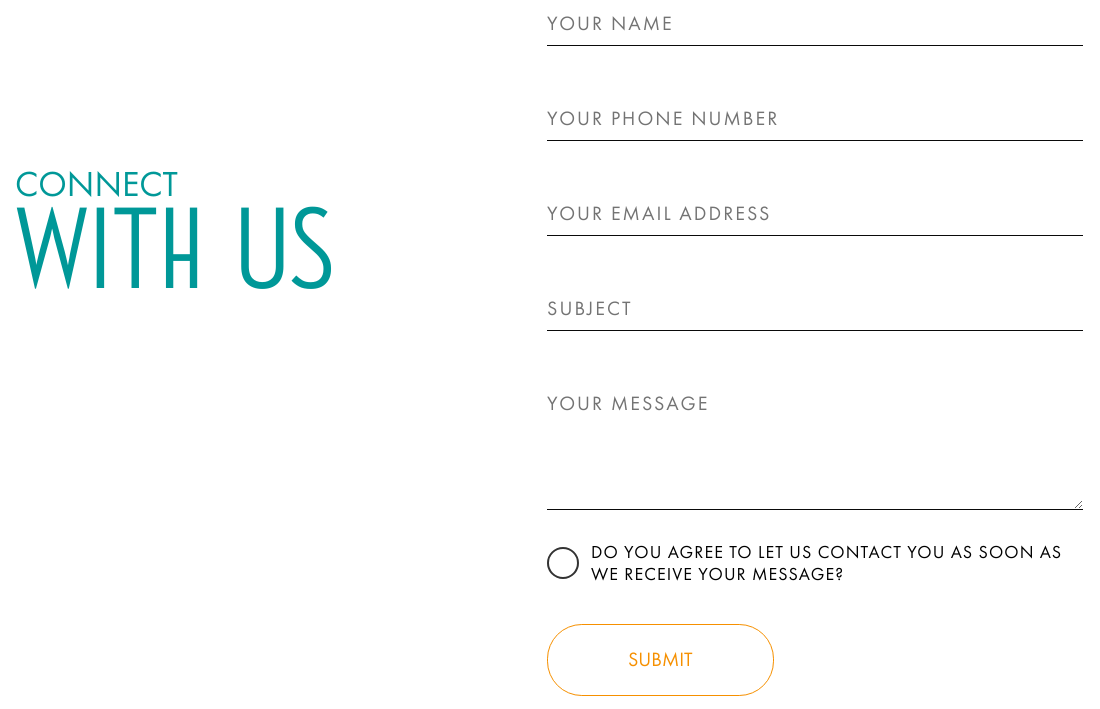
it: Contact Form Component › Form Validation › should validate phone number format
In the field with placeholder "Your Phone Number": (815,118) [547, 96, 1083, 141], type "123"
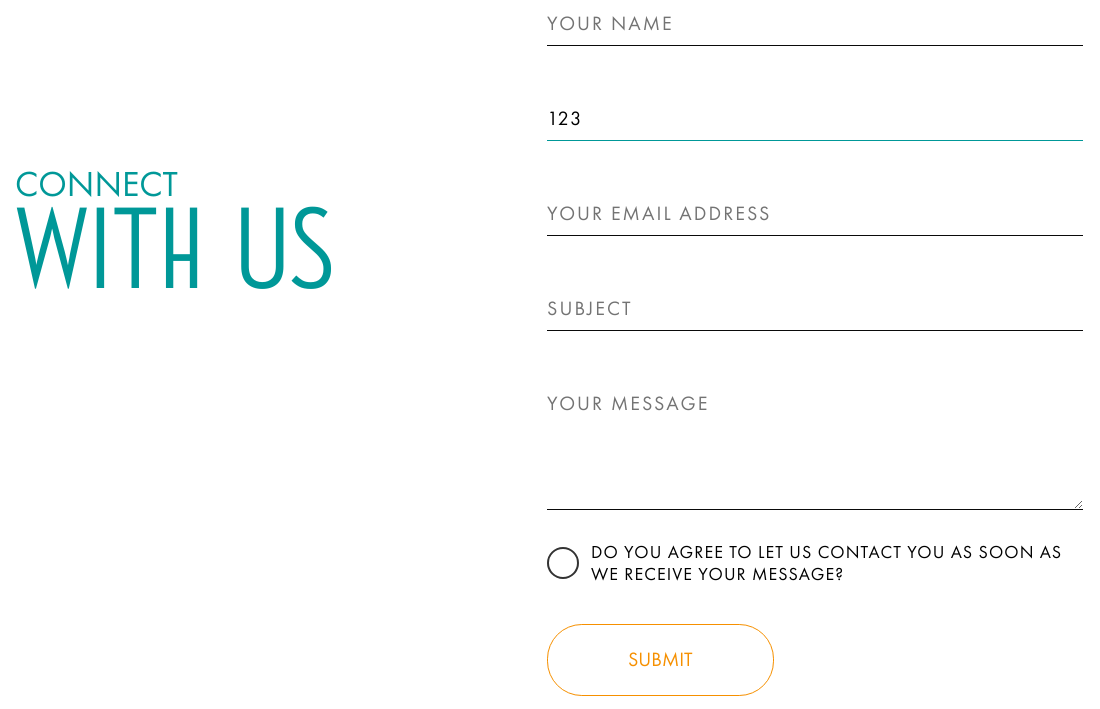
Click the button "Submit": (660,660) [547, 624, 774, 696]
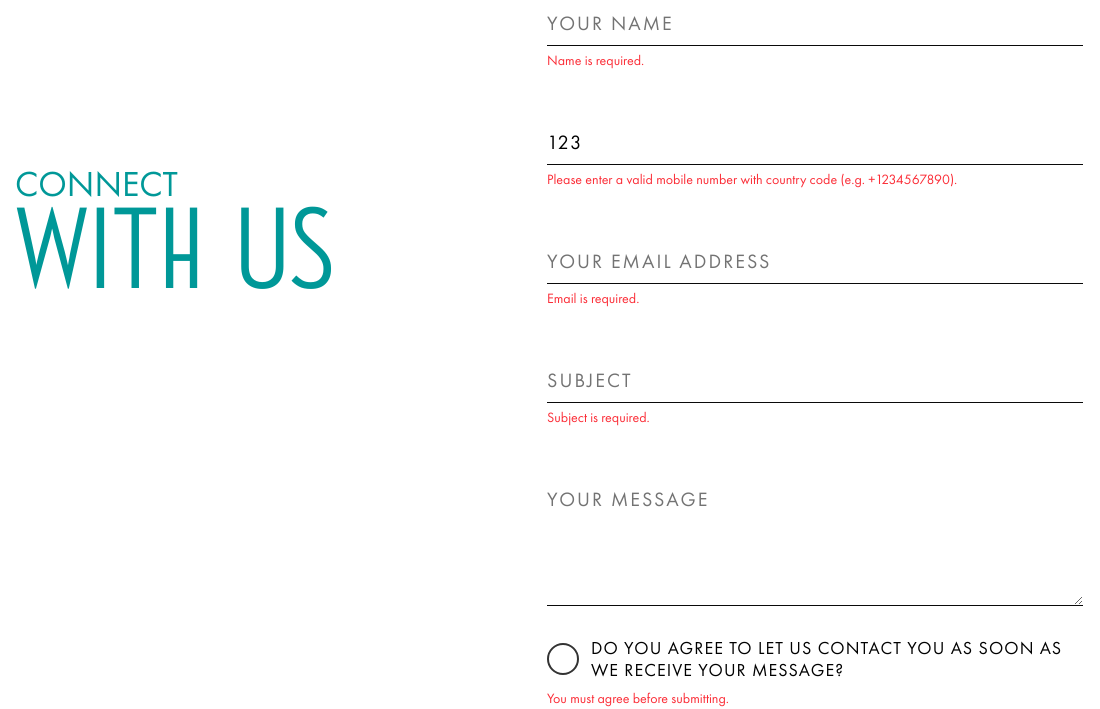
Expected: the text "Please enter a valid mobile number with country code (e.g. +1234567890)." is shown, [547, 170, 957, 188]
